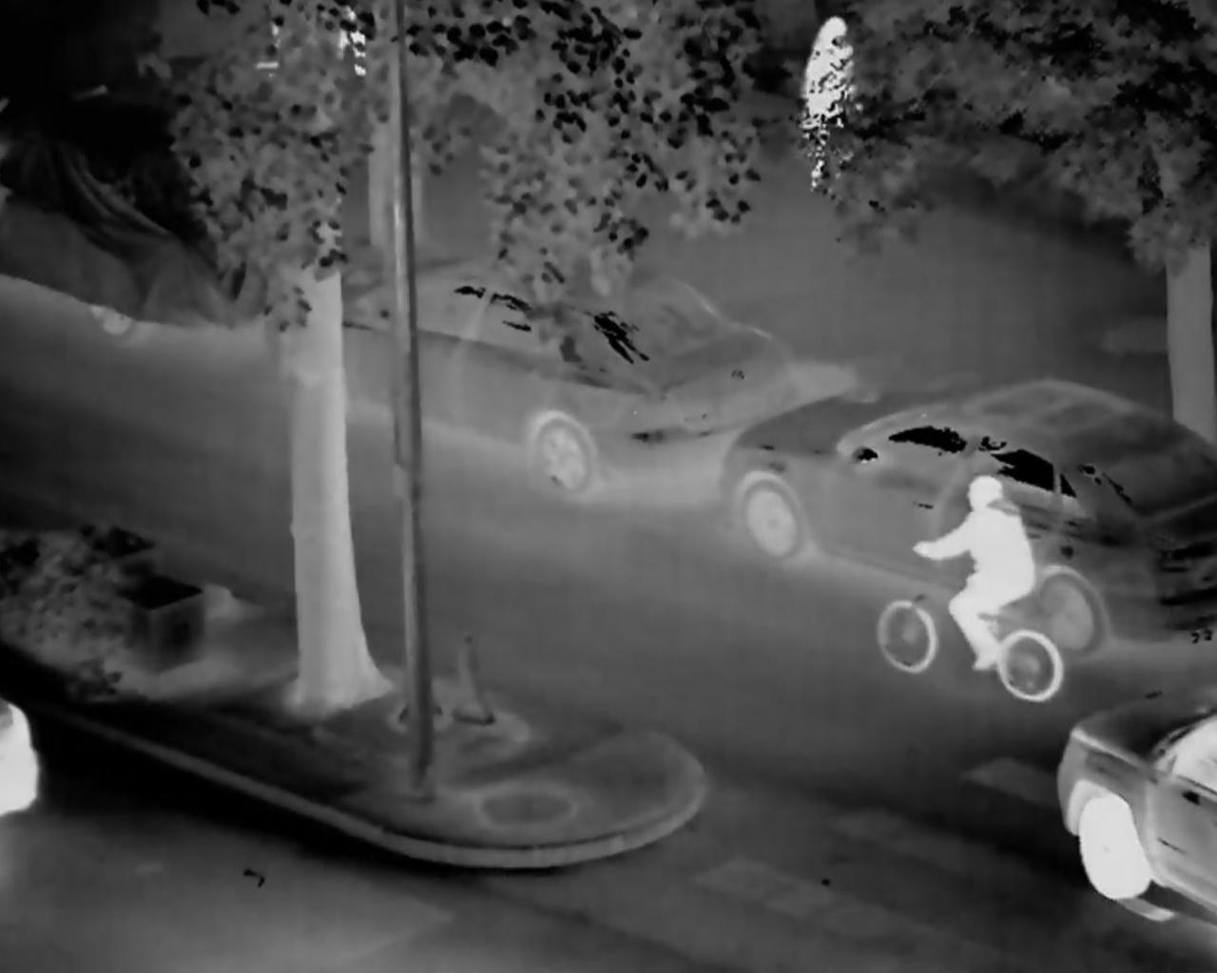person: (906, 475, 1040, 685), (789, 10, 863, 200)
